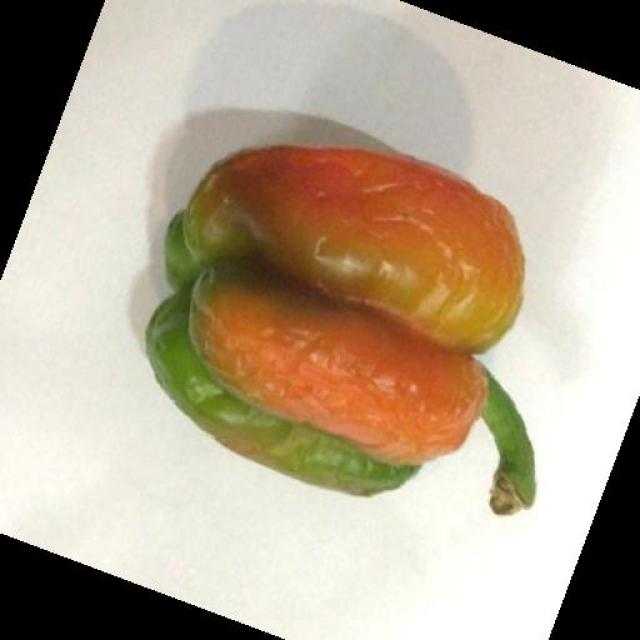Stale_Capsicum: (166, 146, 584, 533)
